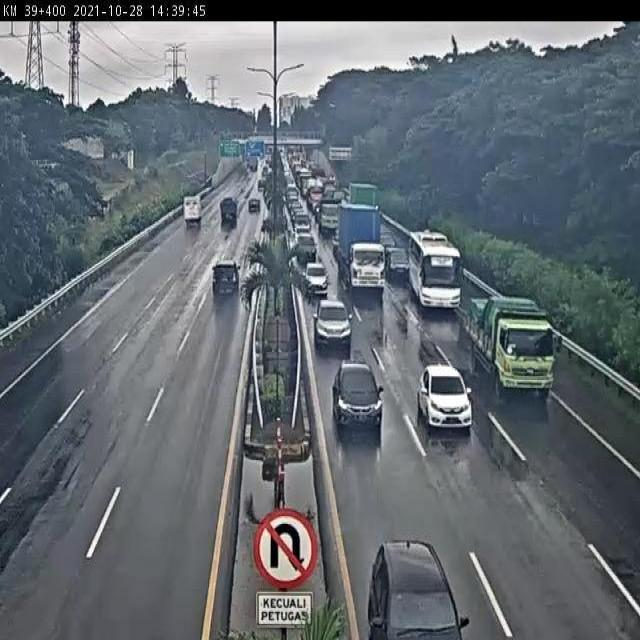car: (330, 362, 383, 434), (418, 364, 472, 432), (314, 300, 355, 347), (211, 259, 240, 295), (383, 240, 408, 275), (306, 259, 329, 292), (297, 237, 319, 264), (290, 214, 312, 238)
truck: (455, 290, 555, 402), (335, 203, 388, 297), (406, 225, 460, 308), (181, 192, 204, 233), (220, 198, 238, 226)
